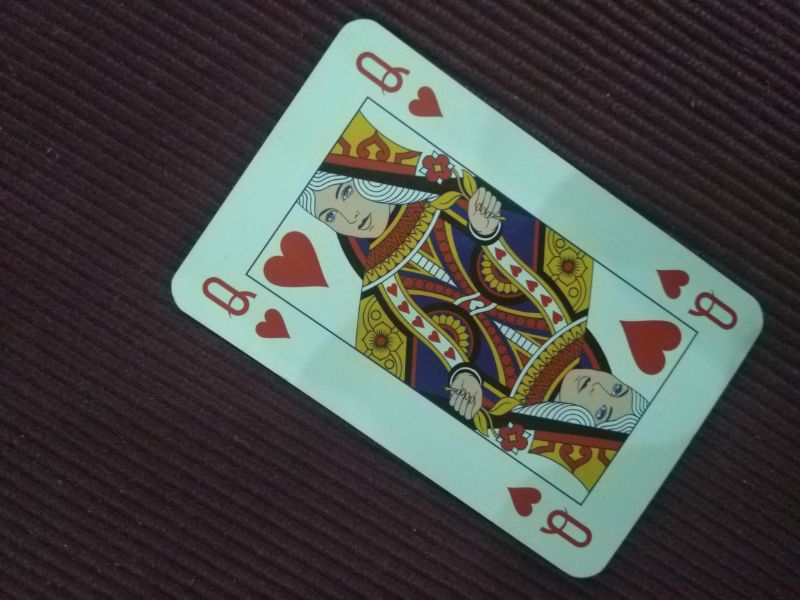Qh: (347, 45, 447, 121), (648, 259, 740, 332), (201, 273, 296, 343), (502, 479, 595, 550)
